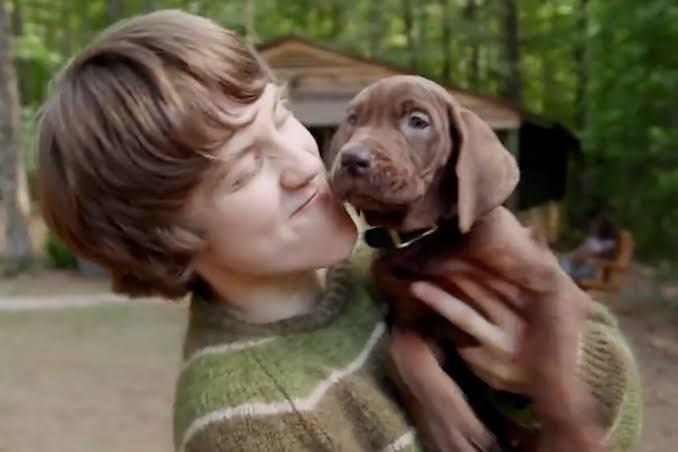non-dog: (23, 7, 645, 448)
puppy-dog: (328, 78, 612, 452)
